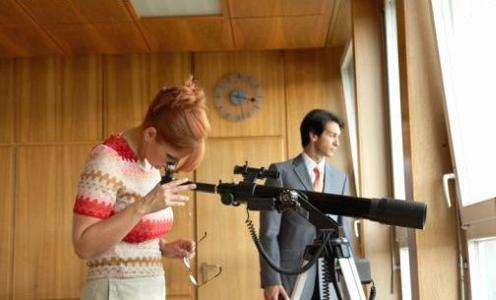person: (71, 85, 209, 298)
